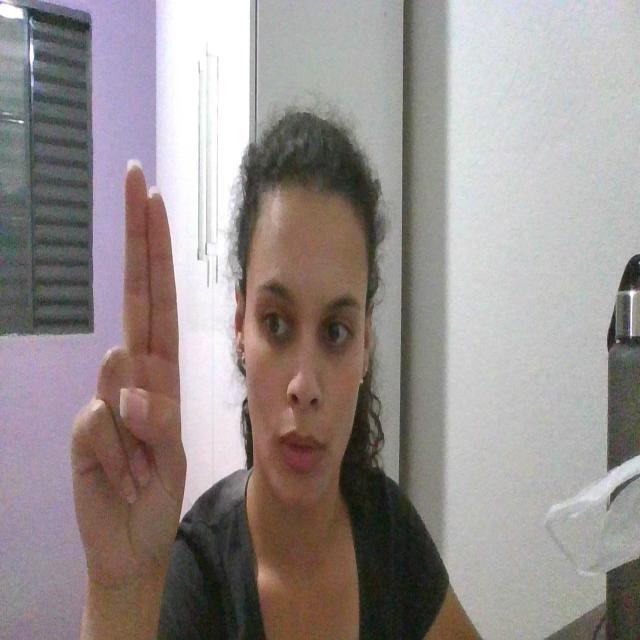U: (69, 147, 195, 594)
